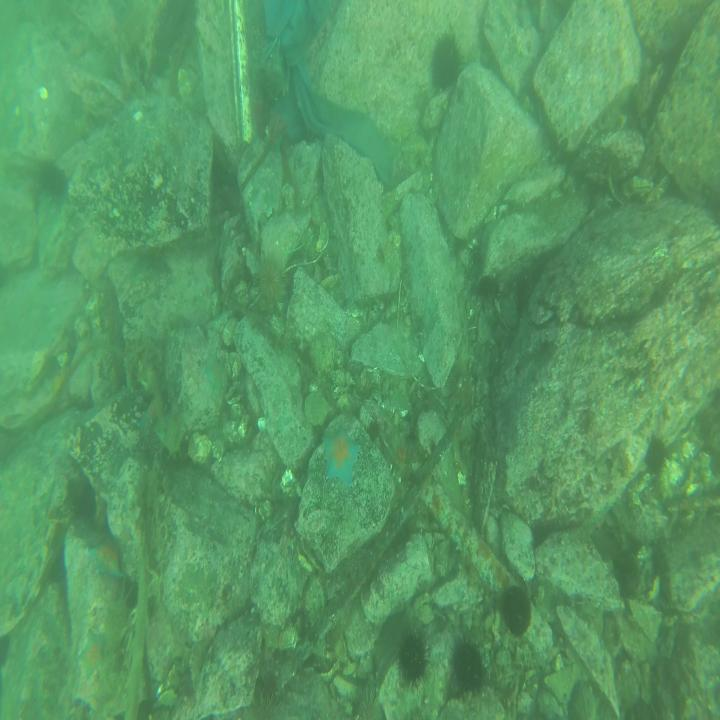echinus: (395, 626, 434, 696), (446, 630, 486, 697), (431, 24, 469, 93), (252, 249, 288, 311), (501, 581, 536, 644), (35, 153, 69, 201), (642, 430, 667, 475), (473, 268, 498, 304)
starfish: (323, 417, 363, 490), (79, 625, 109, 683), (86, 537, 125, 581), (202, 352, 226, 395)
